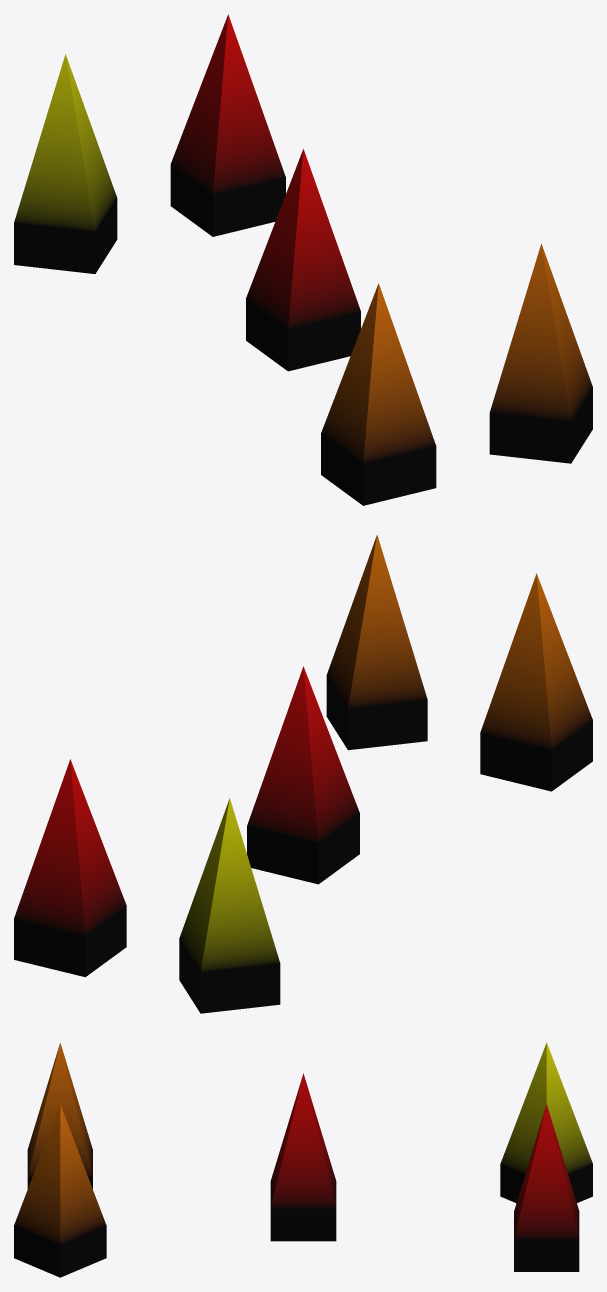
The model's file is spike.fbx.
3 renders of one model, top to bottom at view 1: azimuth 30°, elevation 25°; view 2: azimuth 150°, elevation 25°; view 3: azimuth 270°, elevation 25°, orthographic. The views are drawn at different scales.
Visible parts, largest first — view 1: Spike; view 2: Spike; view 3: Spike.
Boxes of the visible parts, <box> form: Spike: <box>14,14,592,505</box>; Spike: <box>14,534,592,1013</box>; Spike: <box>14,1042,592,1277</box>.
Bounding box in the file's own units: 98.05 × 70 × 238.
